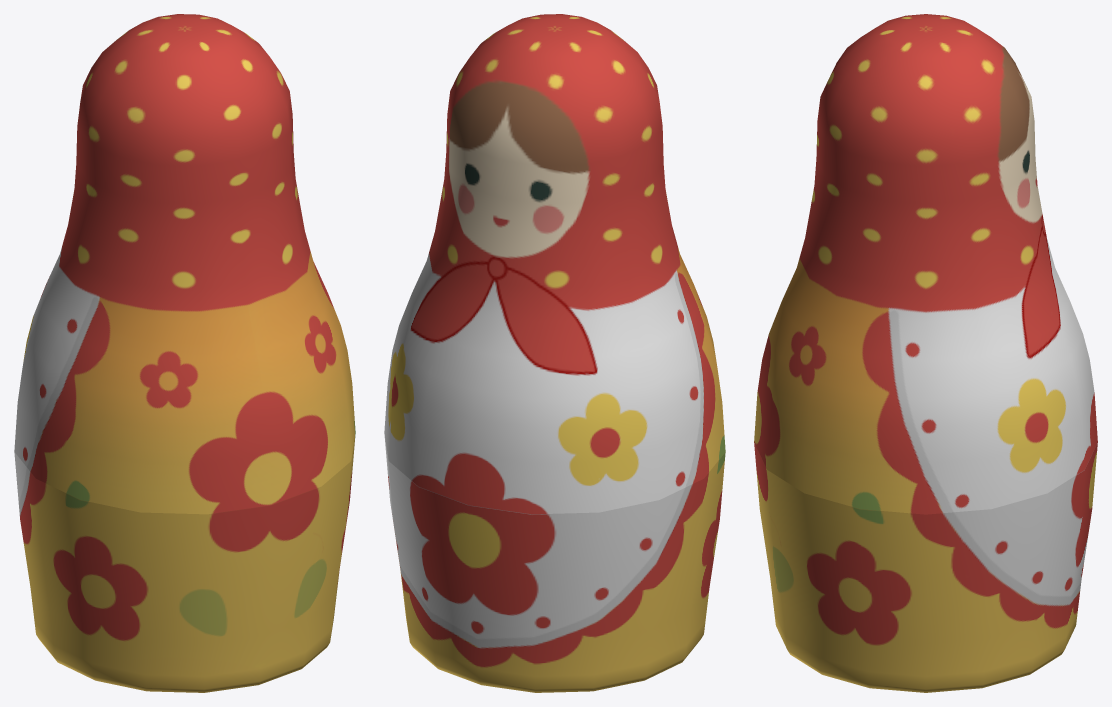
The model's file is Matryoshka_3.fbx.
3 views of the same model, side by side, from view 1: azimuth 30°, elevation 25°; view 2: azimuth 150°, elevation 25°; view 3: azimuth 270°, elevation 25° (orthographic).
Visible parts, largest first — view 1: Matryoshka_3_Upper, Matryoshka_3_Lower; view 2: Matryoshka_3_Upper, Matryoshka_3_Lower; view 3: Matryoshka_3_Upper, Matryoshka_3_Lower.
Part boxes in pixels (box(x1,y1,x2,y2)): Matryoshka_3_Upper: box(14, 14, 355, 514); Matryoshka_3_Lower: box(14, 436, 355, 692); Matryoshka_3_Upper: box(384, 14, 725, 514); Matryoshka_3_Lower: box(384, 436, 725, 692); Matryoshka_3_Upper: box(754, 14, 1097, 514); Matryoshka_3_Lower: box(754, 442, 1097, 692).
Size of the model in its own units: 353 by 684 by 353.
